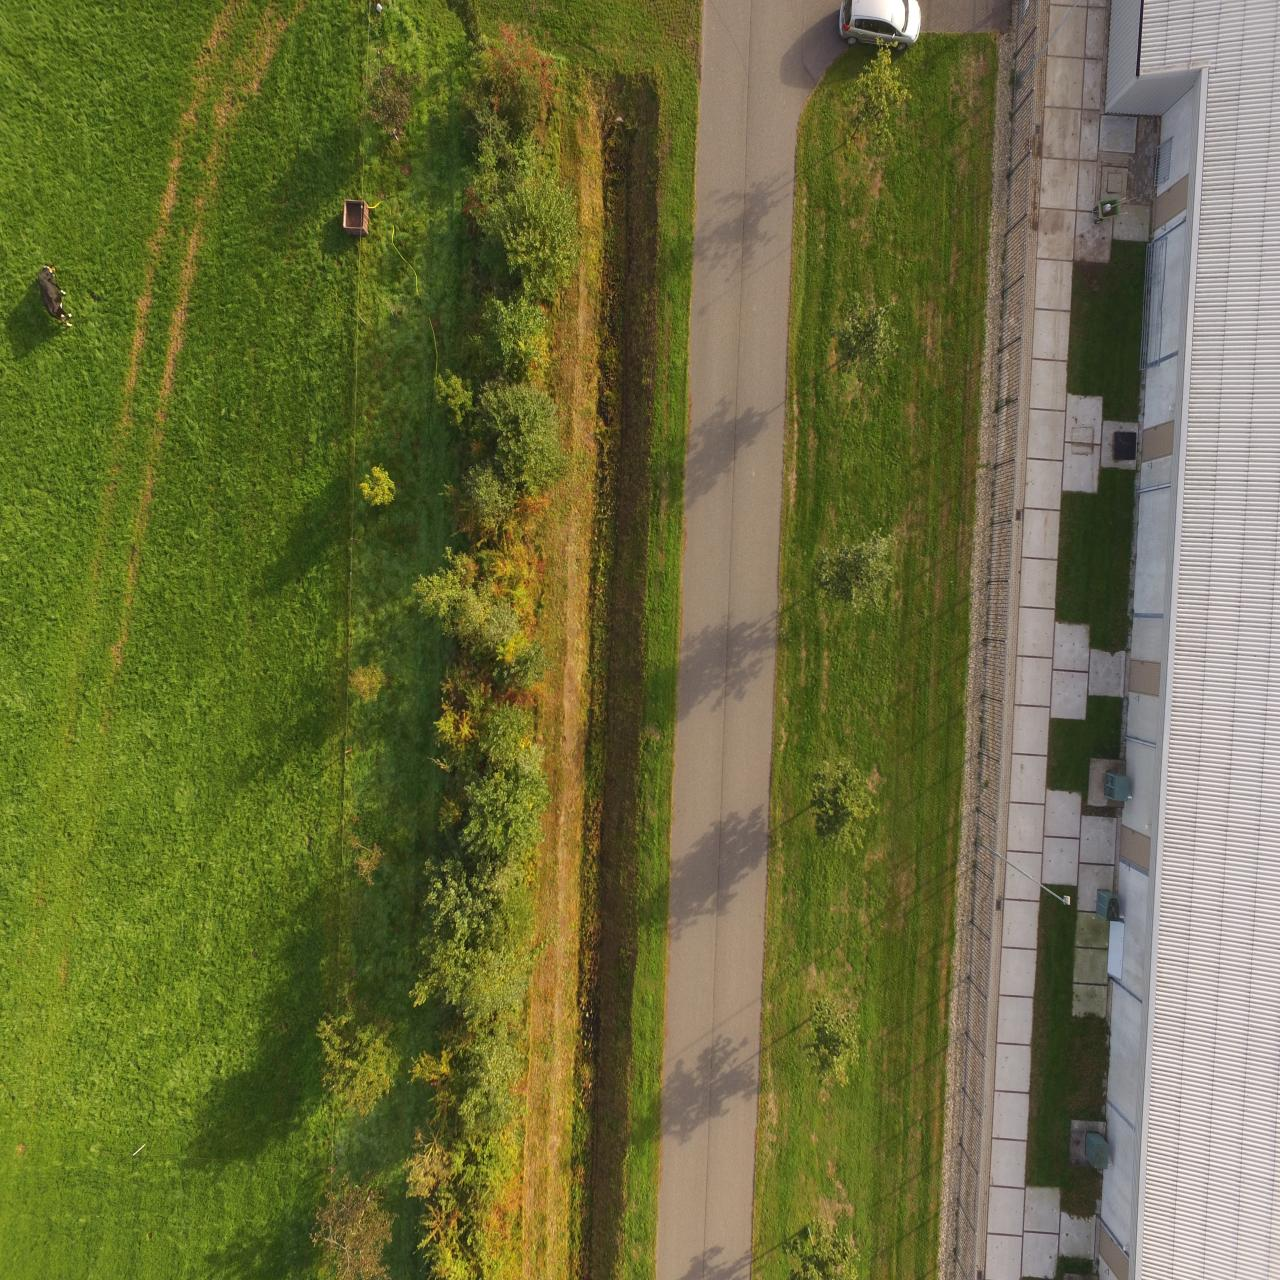cow: (32, 259, 74, 334)
